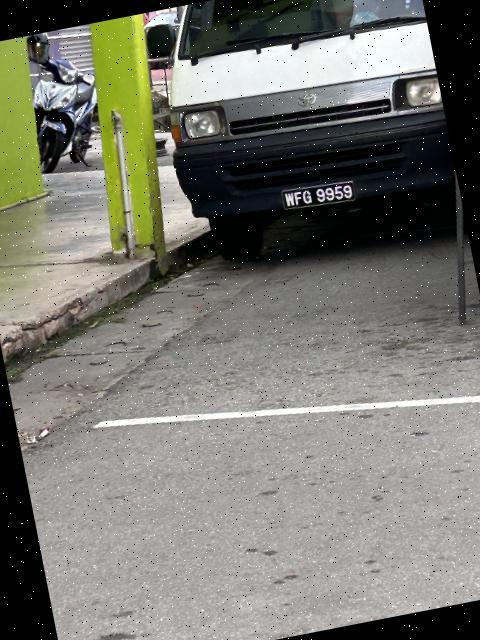License_Plate: (279, 174, 360, 218)
van: (133, 1, 465, 276)
